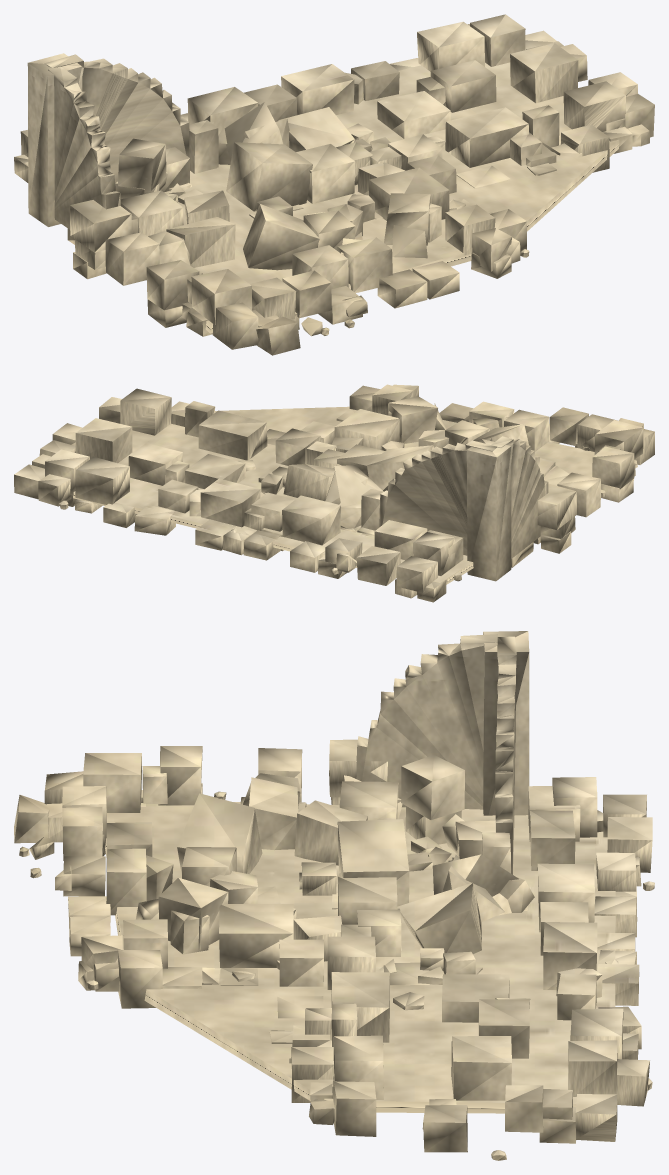
The picture shows the model from 3 angles, top to bottom: view 1: azimuth 30°, elevation 25°; view 2: azimuth 150°, elevation 25°; view 3: azimuth 270°, elevation 25°; orthographic projection. The views are drawn at different scales.
Visible parts, largest first — view 1: castle_d4.7; view 2: castle_d4.7; view 3: castle_d4.7.
Boxes of the visible parts, x1,y1,x2,y2 form: castle_d4.7: [14, 14, 654, 355]; castle_d4.7: [14, 384, 654, 602]; castle_d4.7: [14, 631, 654, 1160].
Bounding box in the file's own units: 2.9 × 0.7751 × 2.28.
Materials: 1 (1 with a texture image).
